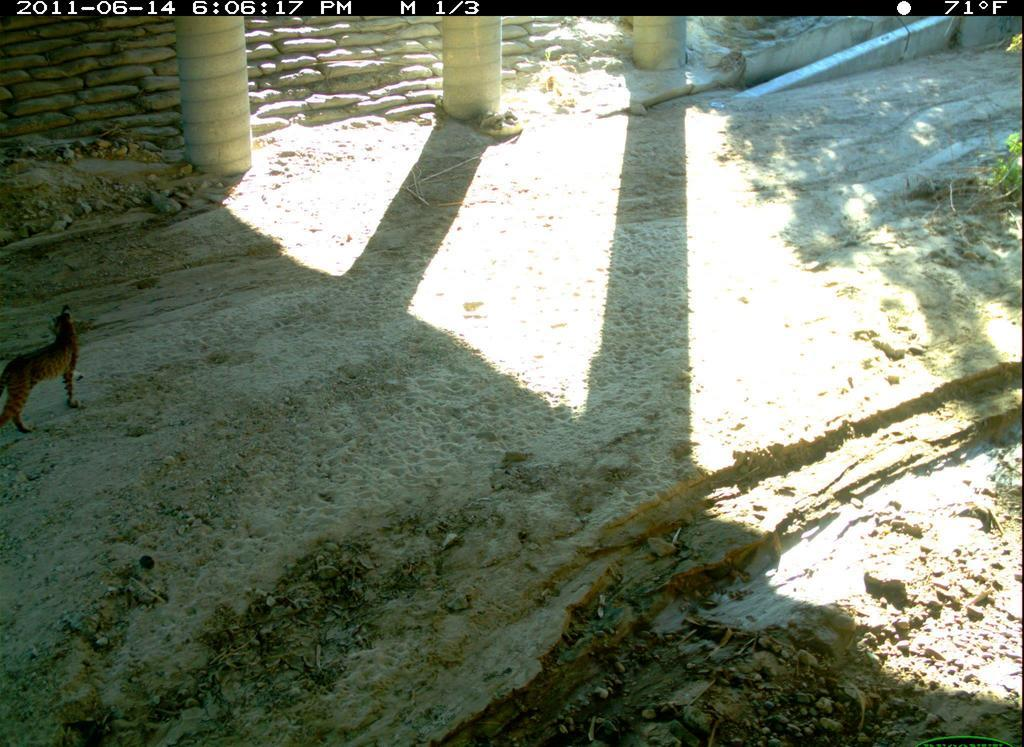bobcat: (1, 296, 97, 449)
